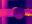Hotspot: (25, 13, 31, 16)
